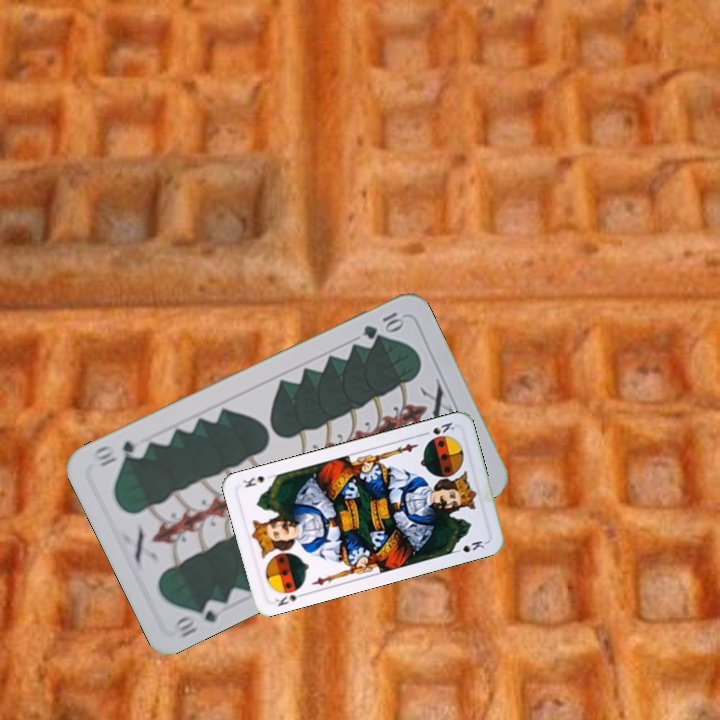G10: (169, 595, 227, 640), (359, 308, 407, 342)
SK: (271, 588, 309, 609), (418, 418, 457, 438)
